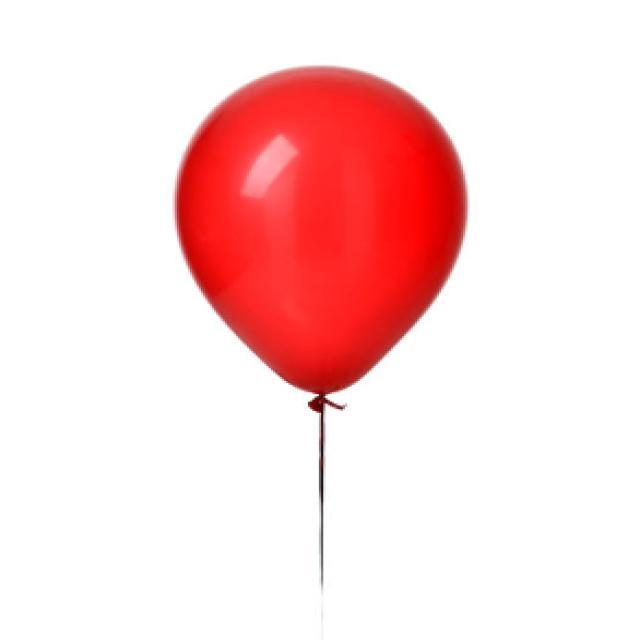red: (173, 63, 468, 407)
